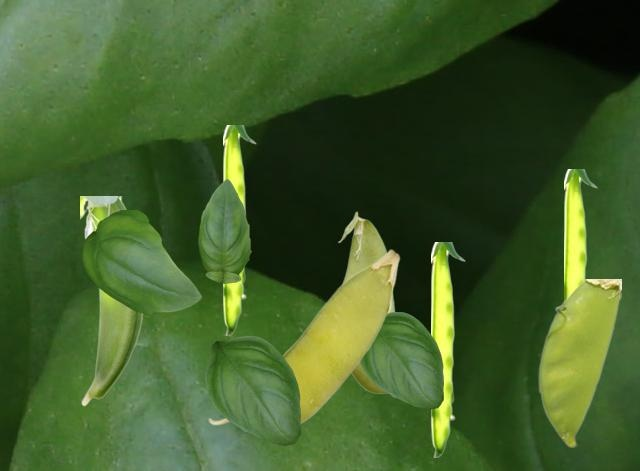pea: (208, 249, 399, 425), (538, 279, 620, 446), (80, 196, 143, 405), (337, 211, 395, 394), (431, 242, 464, 456), (223, 125, 255, 334), (564, 169, 596, 298)
